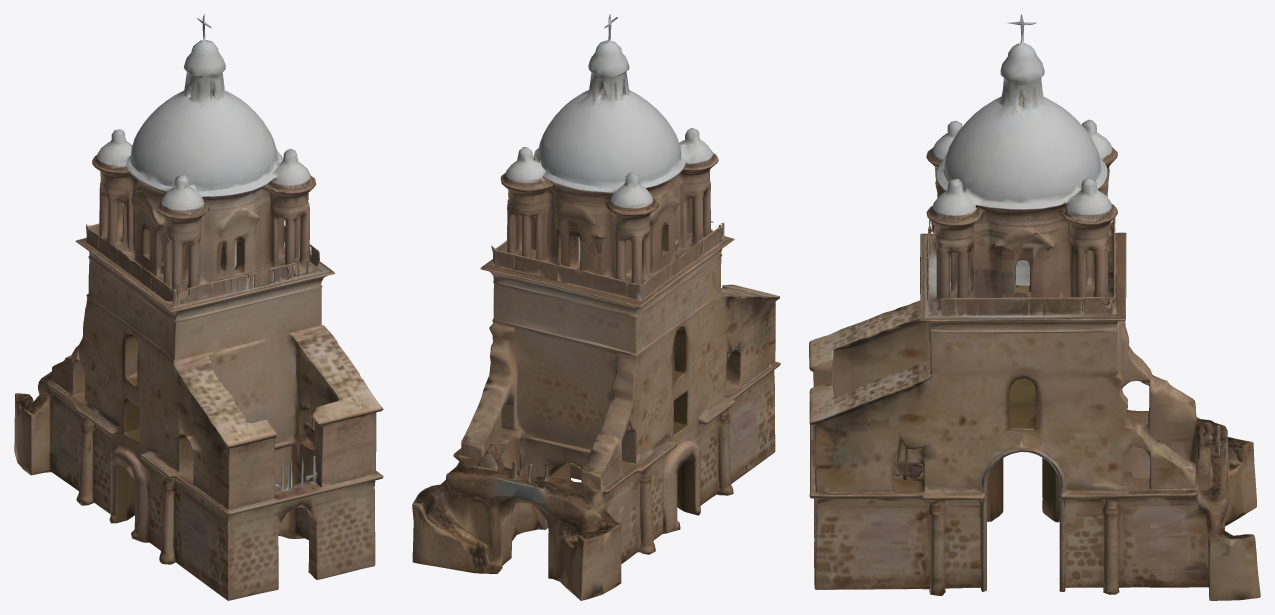
File: templo_multiview.glb
3 renders of one model, left to right at view 1: azimuth 30°, elevation 25°; view 2: azimuth 150°, elevation 25°; view 3: azimuth 270°, elevation 25°, orthographic. The views are drawn at different scales.
Parts seen in each view (by area): view 1: tripo_node_8d6626fc-7f3a-48e7-8def-03cf5d1b242e; view 2: tripo_node_8d6626fc-7f3a-48e7-8def-03cf5d1b242e; view 3: tripo_node_8d6626fc-7f3a-48e7-8def-03cf5d1b242e.
Part boxes in pixels (x1,y1,x2,y2): tripo_node_8d6626fc-7f3a-48e7-8def-03cf5d1b242e: (14, 14, 383, 600); tripo_node_8d6626fc-7f3a-48e7-8def-03cf5d1b242e: (412, 14, 780, 600); tripo_node_8d6626fc-7f3a-48e7-8def-03cf5d1b242e: (809, 14, 1260, 600).
Bounding box in the file's own units: 0.3988 × 1 × 0.7622.
Materials: 1 (1 with a texture image).
